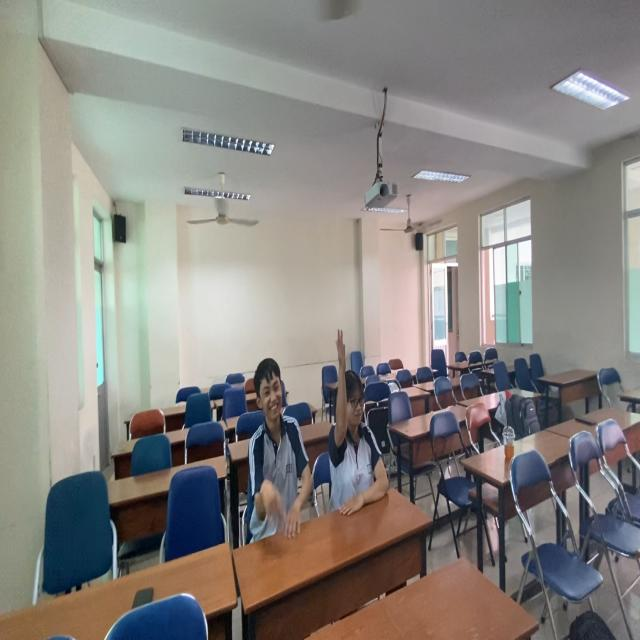raise_hand: (329, 321, 390, 529)
